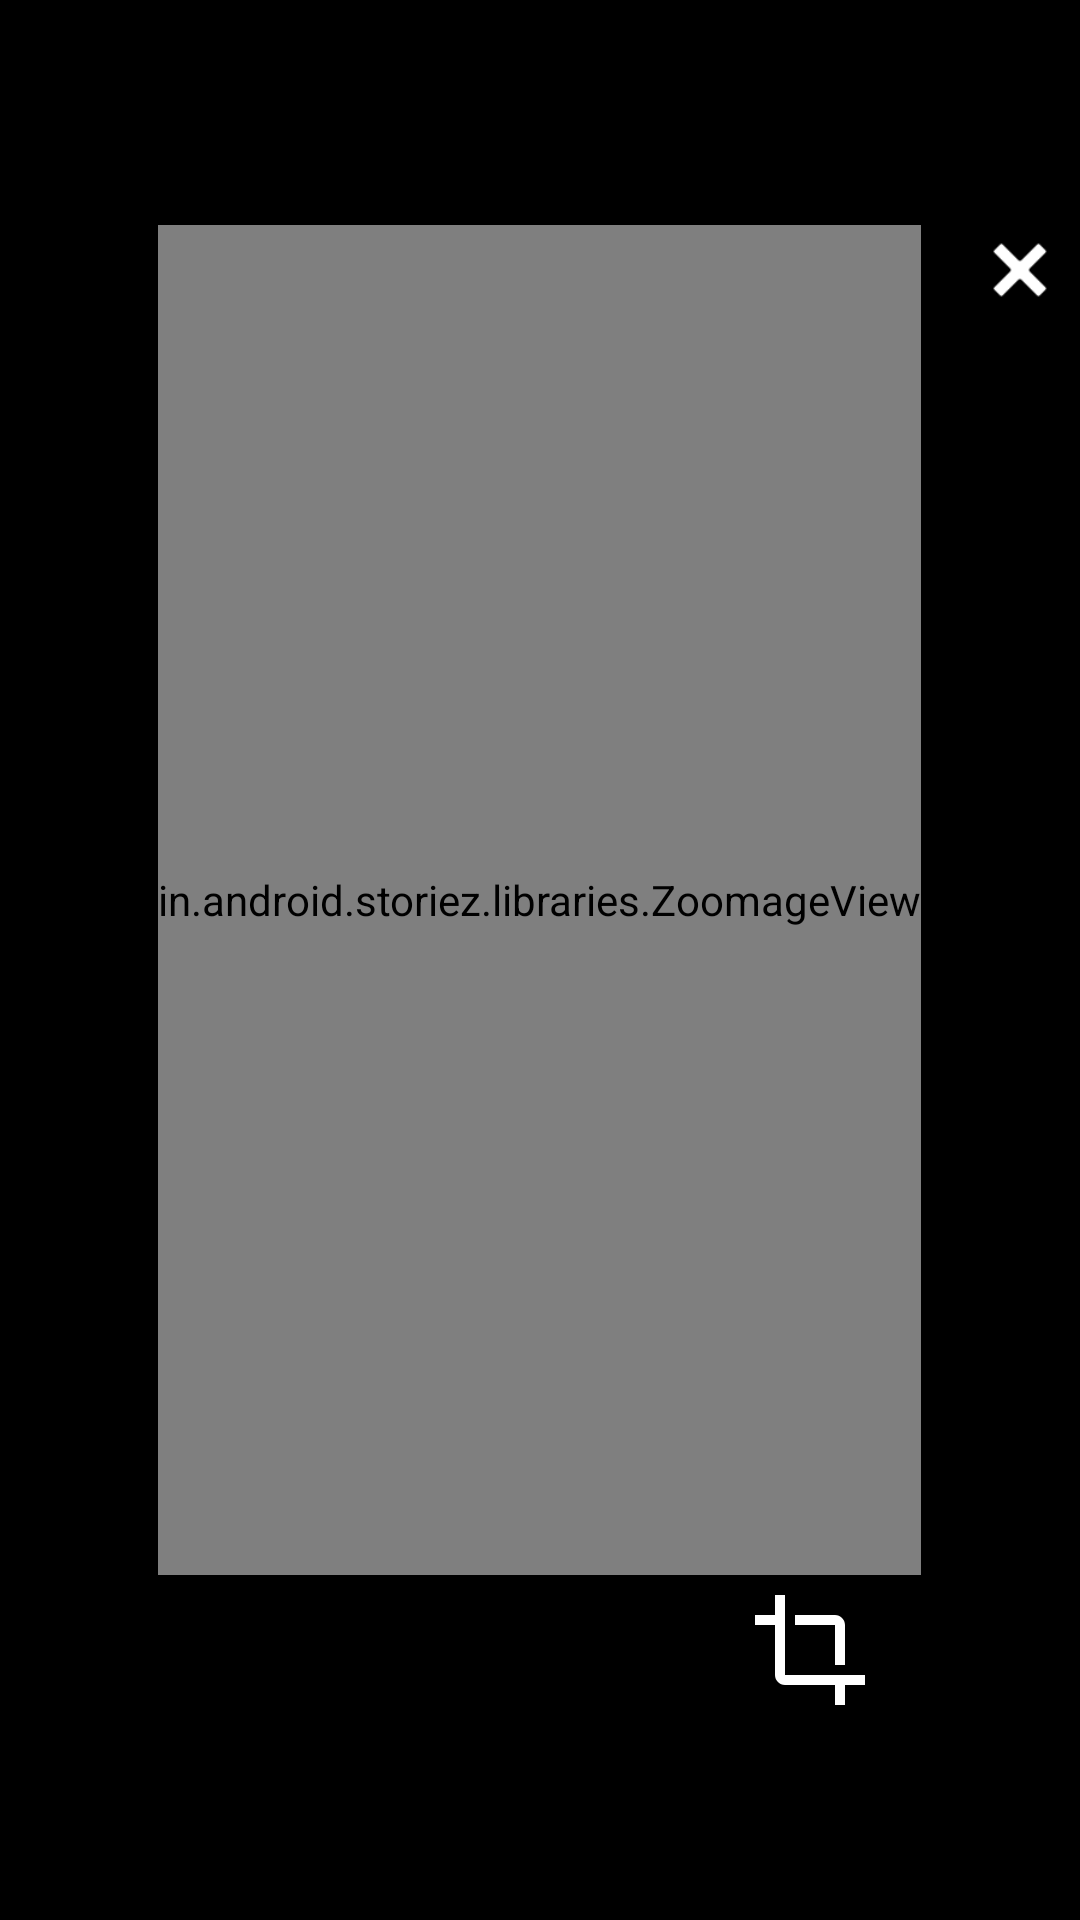

Named icons in this screenshot (1080px x 1920px) and their centers, (x,y):
crop: (810,1650)
cross: (1020,270)
